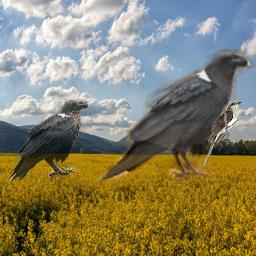Crow: (96, 49, 253, 188), (7, 99, 88, 182)
Cuckoo: (204, 101, 242, 166)
